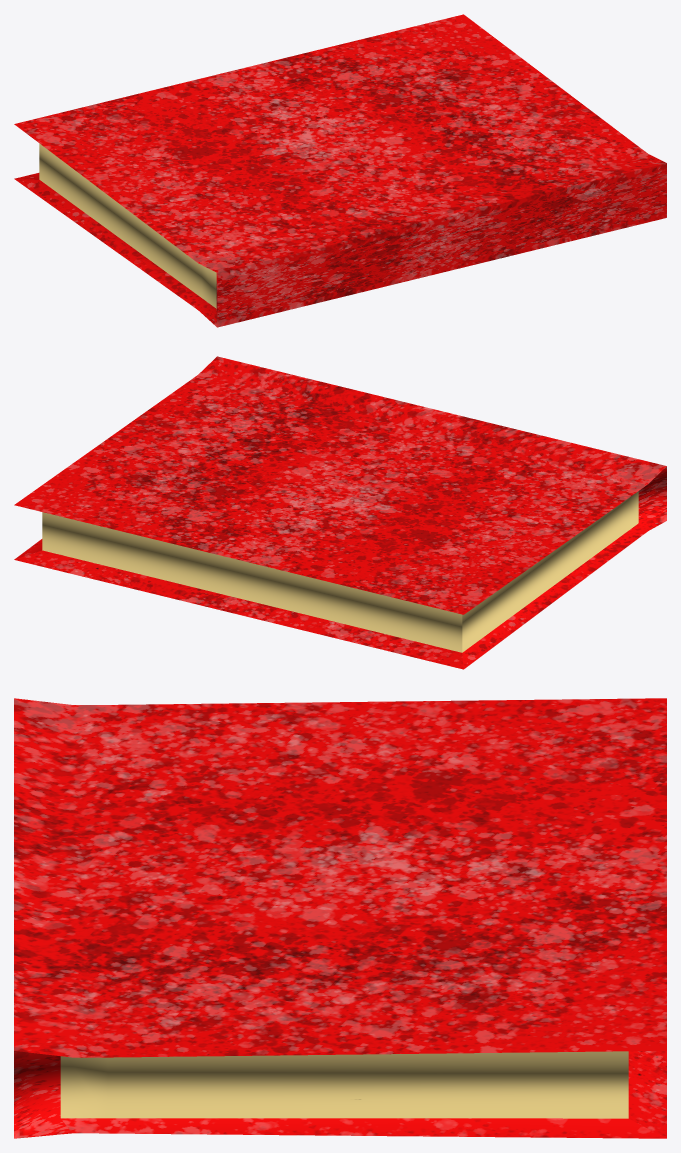
The model's file is RedBook.fbx.
3 views of the same model, one above another, from view 1: azimuth 30°, elevation 25°; view 2: azimuth 150°, elevation 25°; view 3: azimuth 270°, elevation 25° (orthographic). The views are drawn at different scales.
Visible parts, largest first — view 1: Book001; view 2: Book001; view 3: Book001.
Part boxes in pixels (bbox=[...]): Book001: bbox=[14, 14, 666, 327]; Book001: bbox=[14, 356, 666, 669]; Book001: bbox=[14, 698, 666, 1138].
Size of the model in its own units: 155 by 17.98 by 121.
